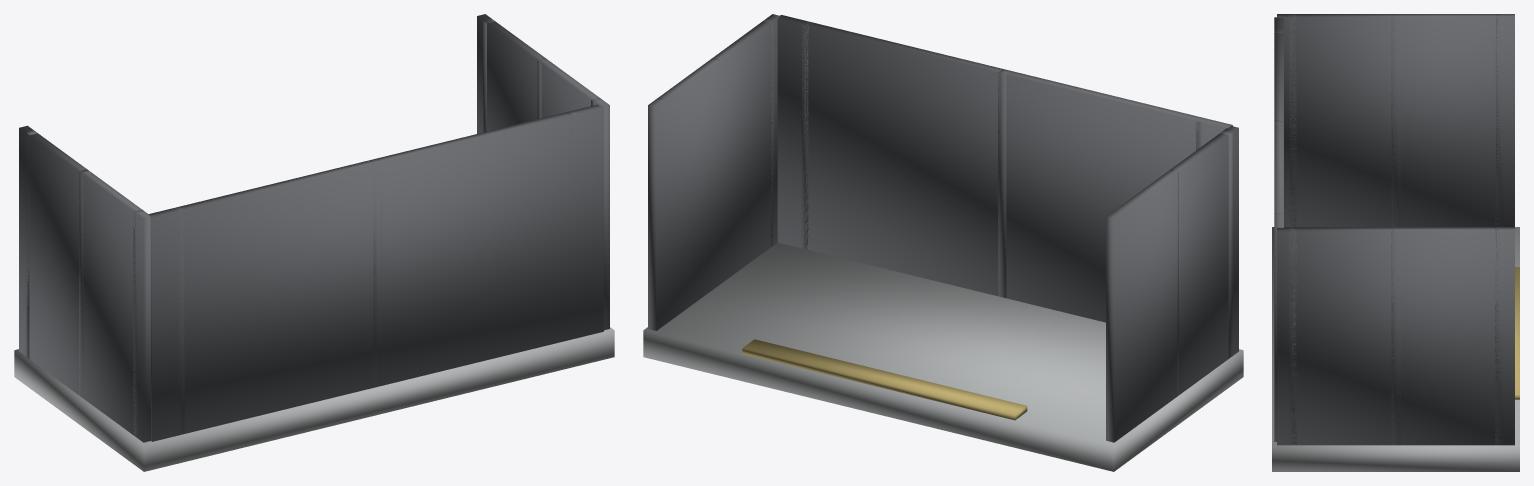
Rendered from landing_steel_w220_d105_door.glb.
3 renders of one model, left to right at view 1: azimuth 30°, elevation 25°; view 2: azimuth 150°, elevation 25°; view 3: azimuth 270°, elevation 25°, orthographic. The views are drawn at different scales.
Parts seen in each view (by area): view 1: world; view 2: world; view 3: world.
Part boxes in pixels (x1,y1,x2,y2): world: (14, 14, 614, 471); world: (643, 14, 1243, 471); world: (1272, 14, 1519, 471).
Size of the model in its own units: 2.2 by 1.12 by 1.05.
